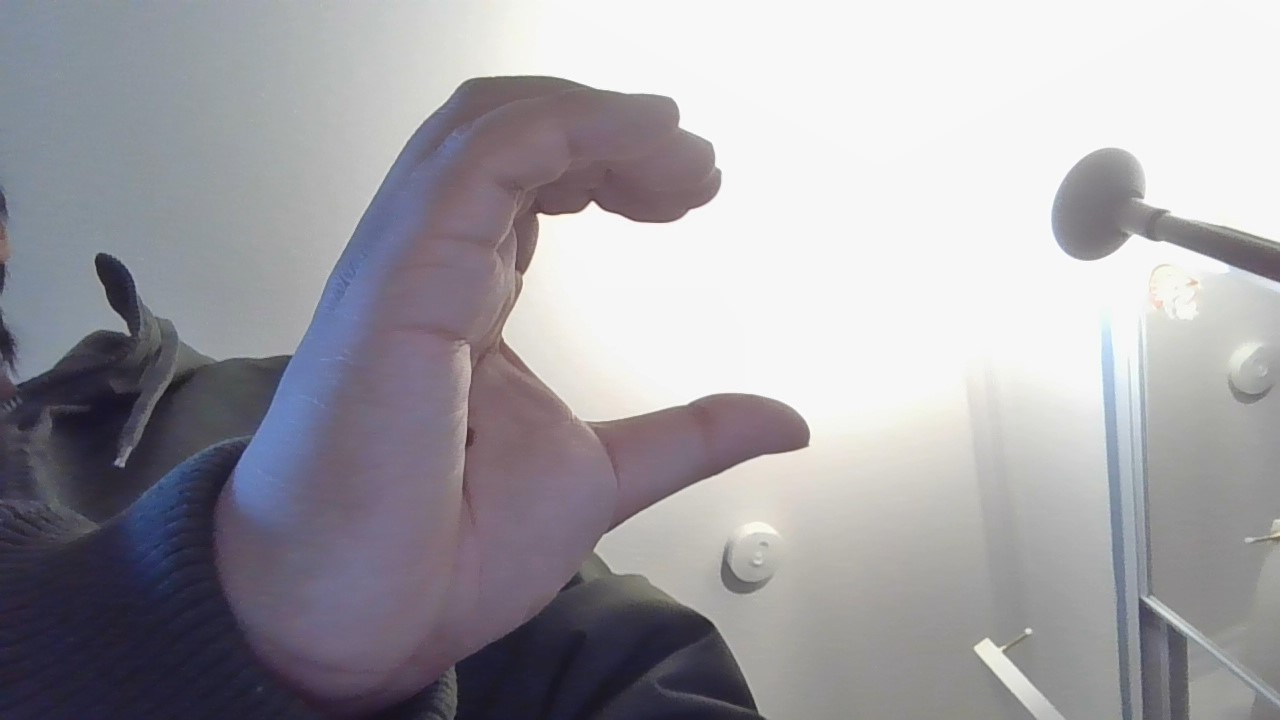c: (171, 51, 840, 701)
